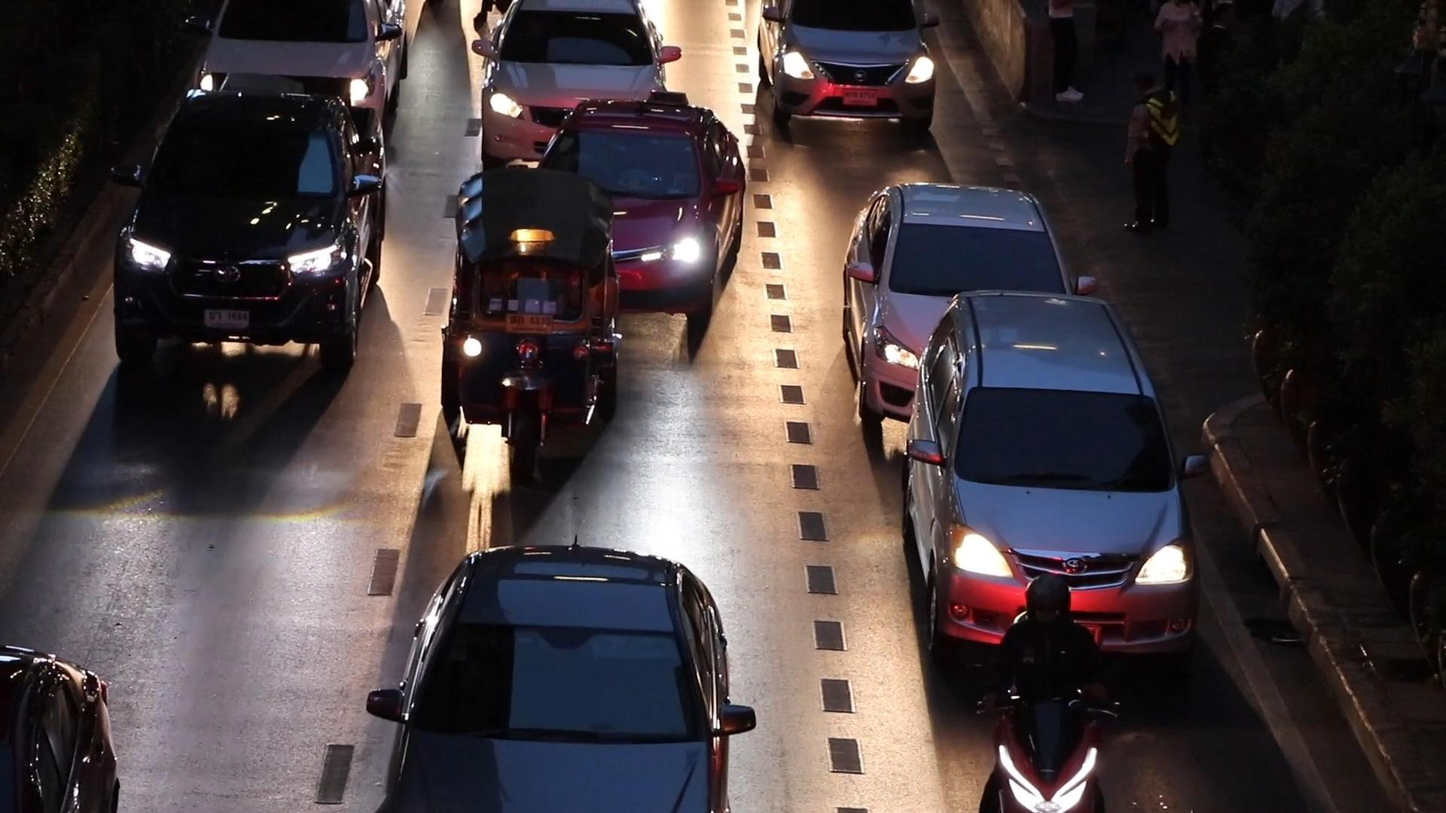driver: (973, 571, 1121, 813)
helmet: (1023, 574, 1072, 637)
